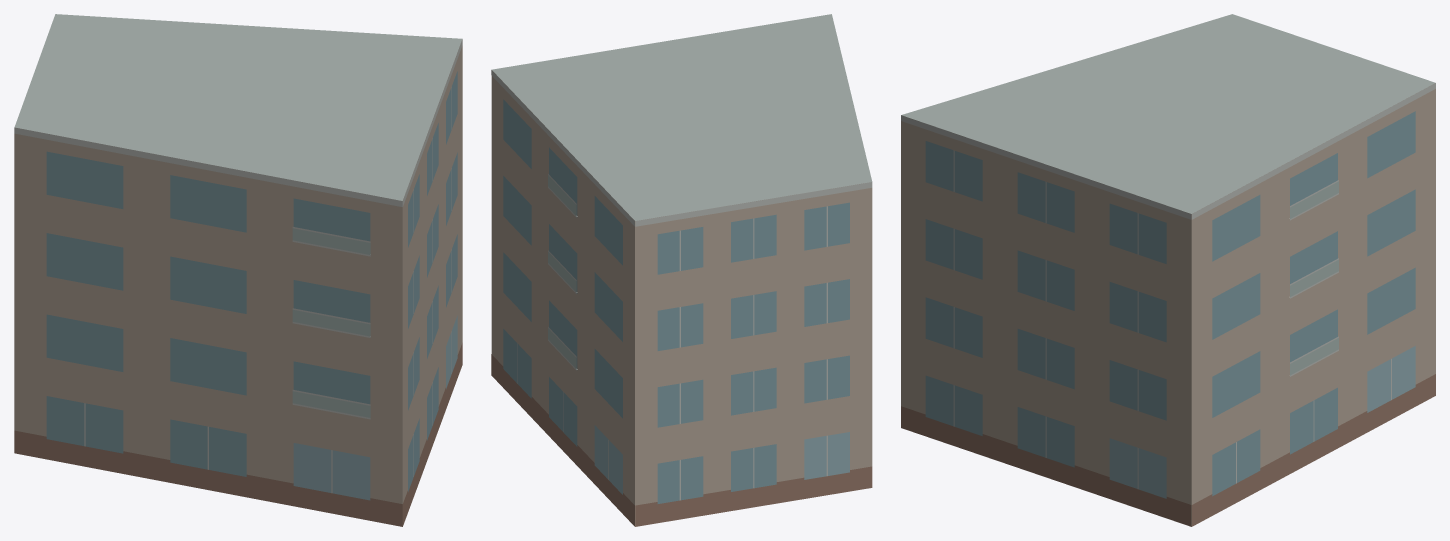
Rendered from survey-upis-32735996.glb.
The picture shows the model from 3 angles, left to right: view 1: azimuth 30°, elevation 25°; view 2: azimuth 150°, elevation 25°; view 3: azimuth 270°, elevation 25°; orthographic projection. The views are drawn at different scales.
Visible parts, largest first — view 1: survey-upis-32735996.tmp; view 2: survey-upis-32735996.tmp; view 3: survey-upis-32735996.tmp.
Boxes of the visible parts, x1,y1,x2,y2 form: survey-upis-32735996.tmp: (14,14,462,526); survey-upis-32735996.tmp: (491,14,872,526); survey-upis-32735996.tmp: (901,14,1435,526).
Bounding box in the file's own units: 17.72 × 12.92 × 20.02.
